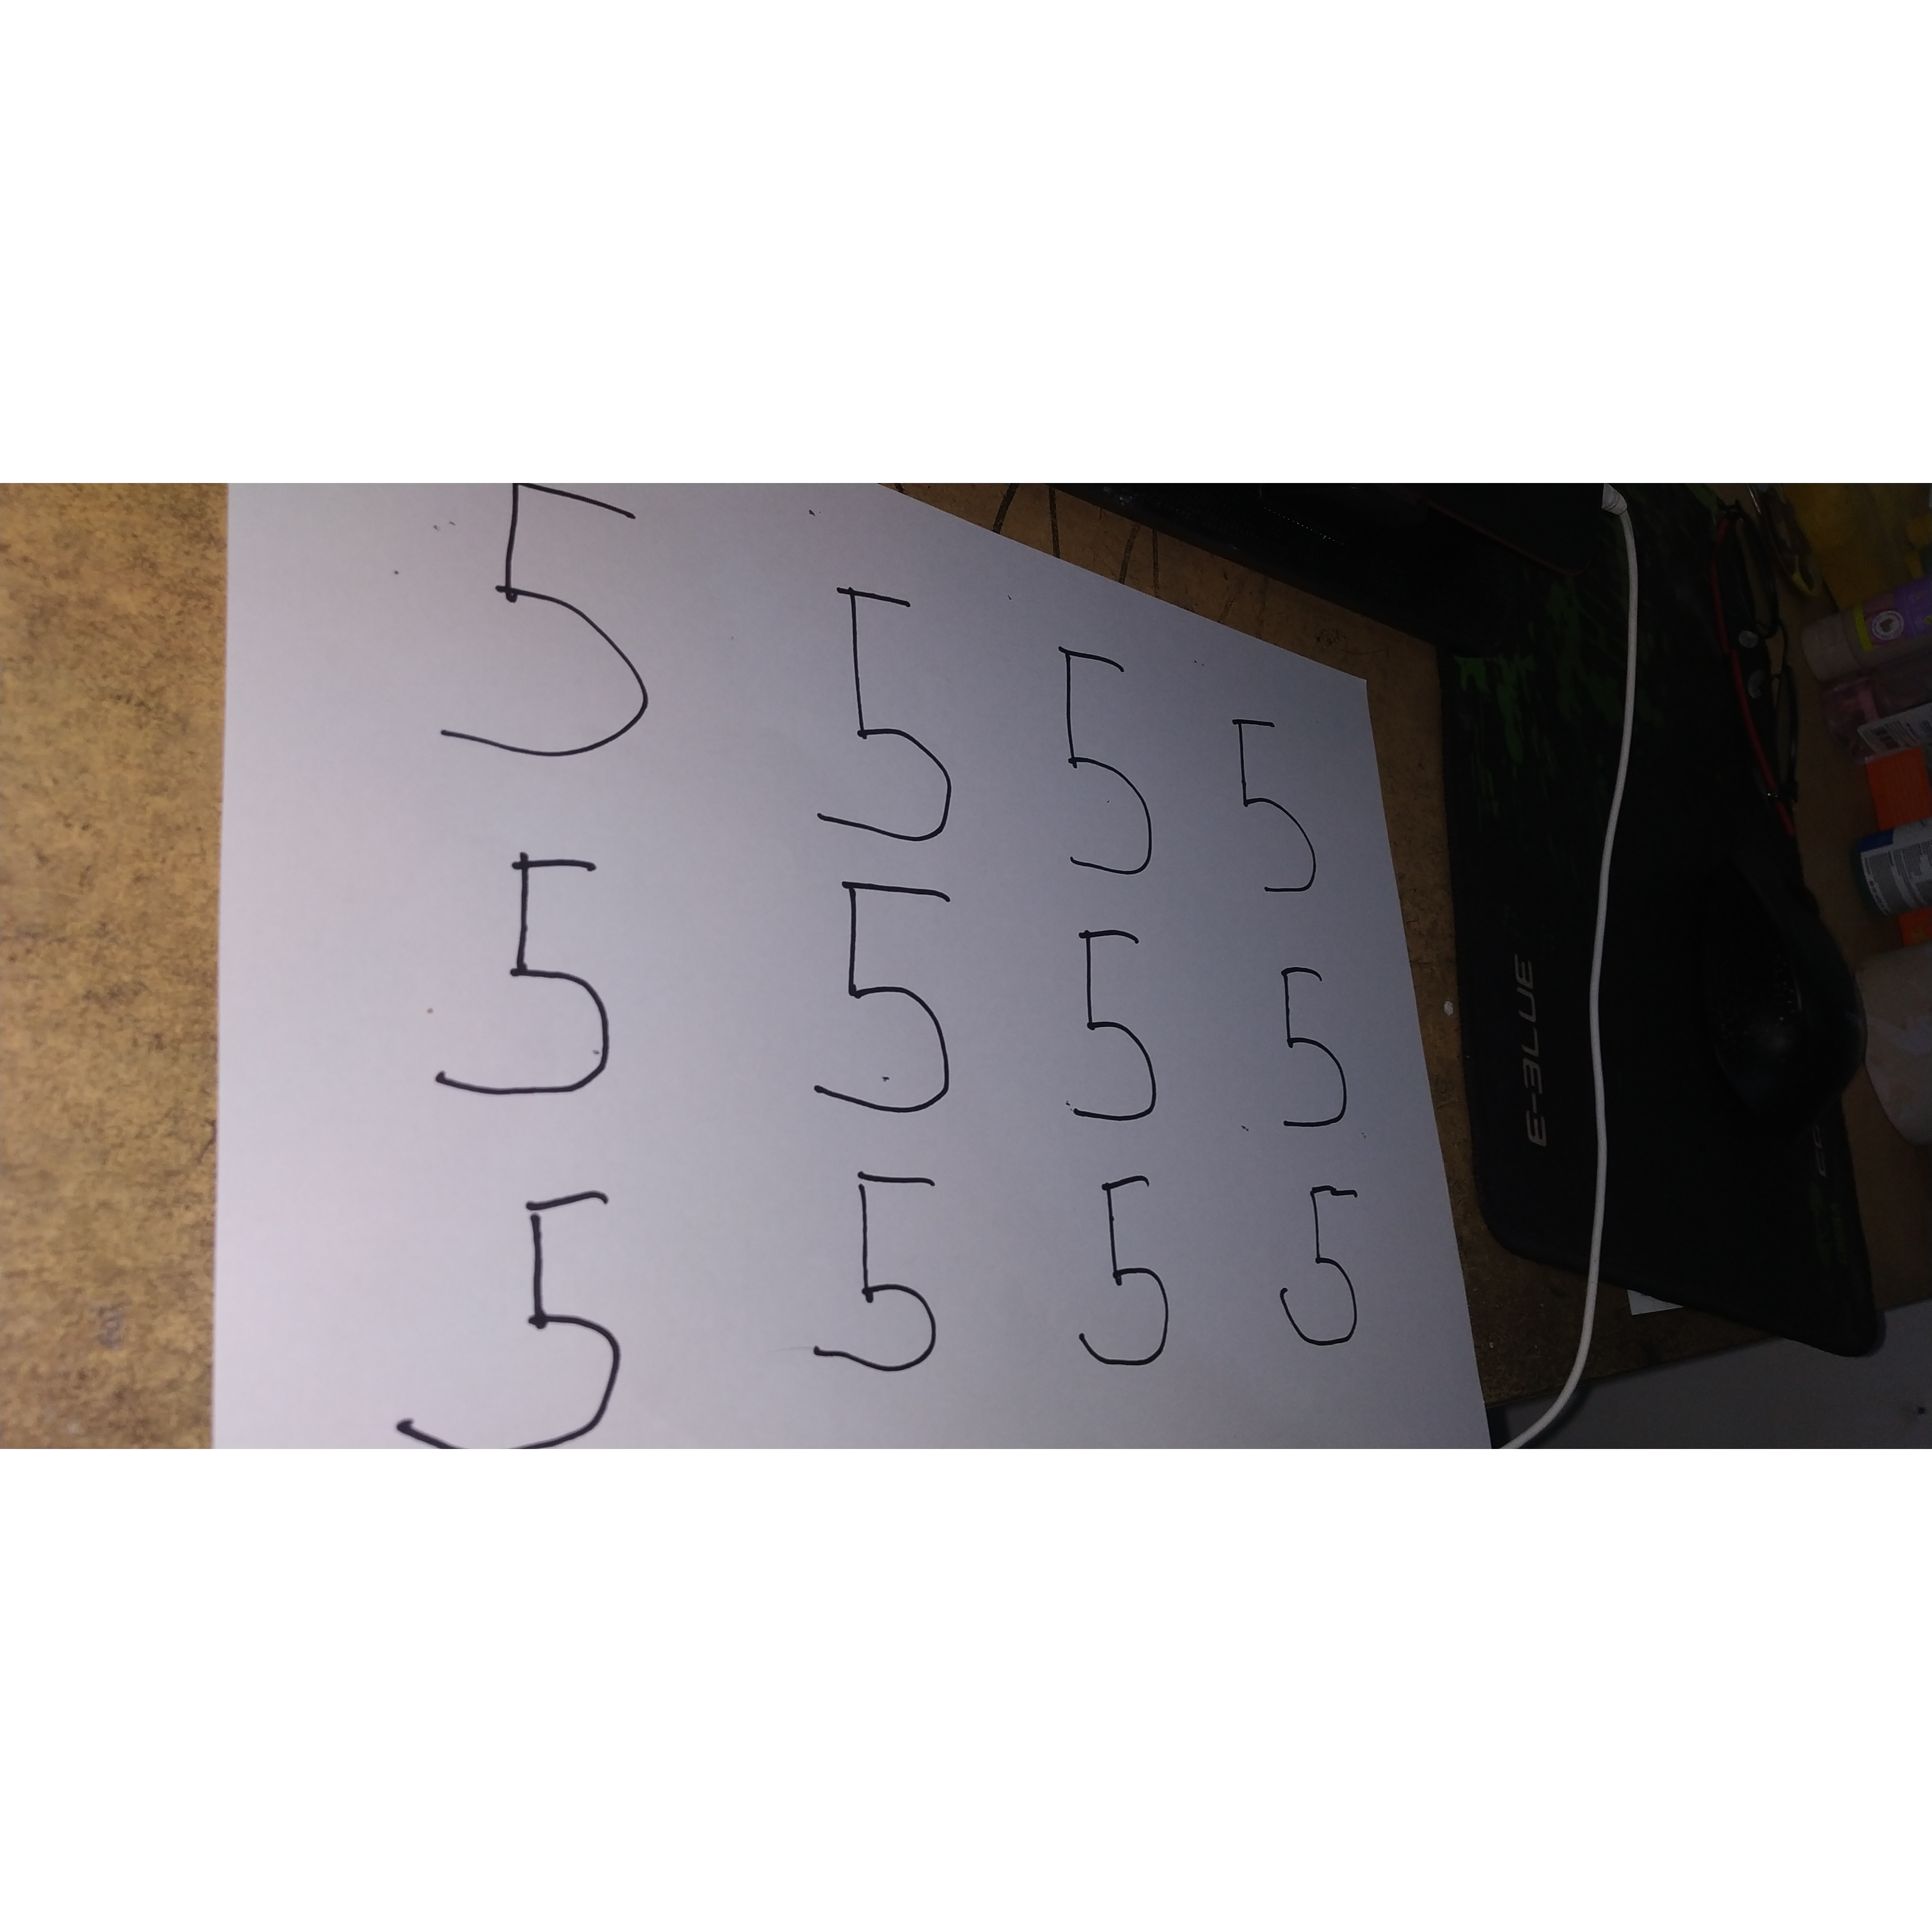num5: (335, 1155, 639, 1451), (406, 481, 681, 767), (410, 817, 645, 1123), (803, 573, 967, 861), (796, 867, 971, 1134), (1023, 630, 1175, 893), (816, 1159, 954, 1392), (1208, 699, 1343, 926), (1053, 1164, 1183, 1388), (1051, 920, 1175, 1151), (1259, 1176, 1374, 1357), (1261, 951, 1364, 1149)
